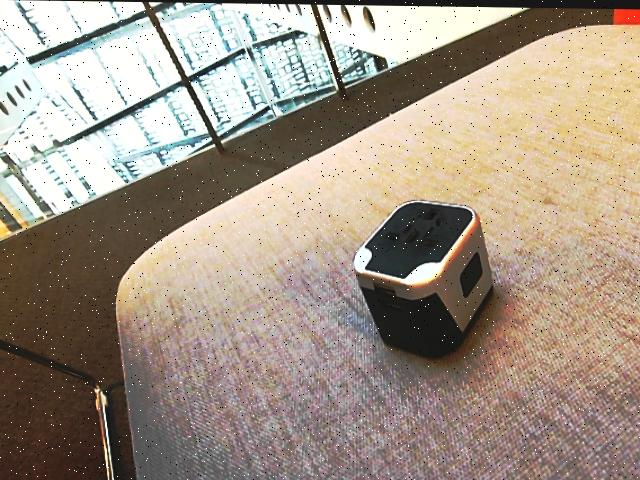adapter: (352, 197, 493, 357)
